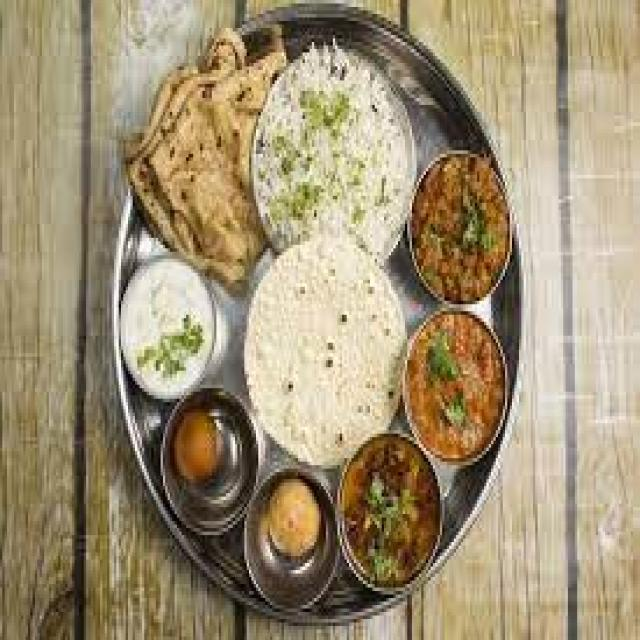papad: (246, 238, 404, 454)
raita: (113, 252, 219, 405)
rice: (249, 40, 420, 270), (113, 259, 224, 400)
roti: (125, 43, 262, 275)
sweet: (154, 401, 248, 515)
veg-fry: (403, 299, 510, 466)
